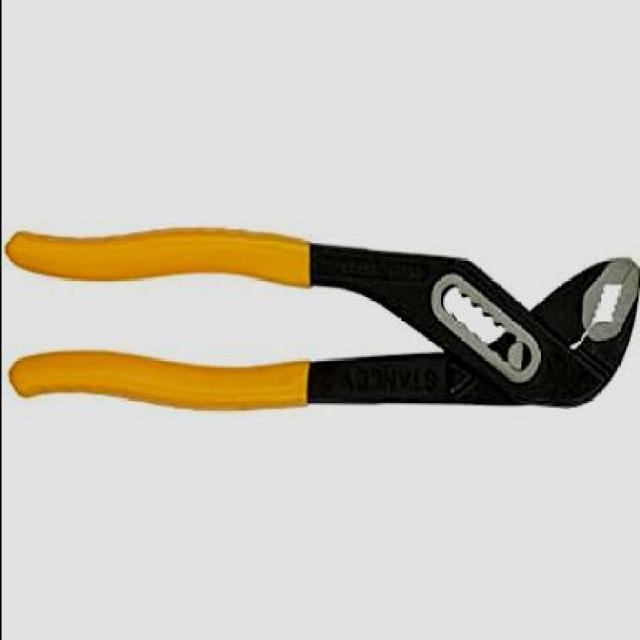pliers: (9, 219, 638, 416)
